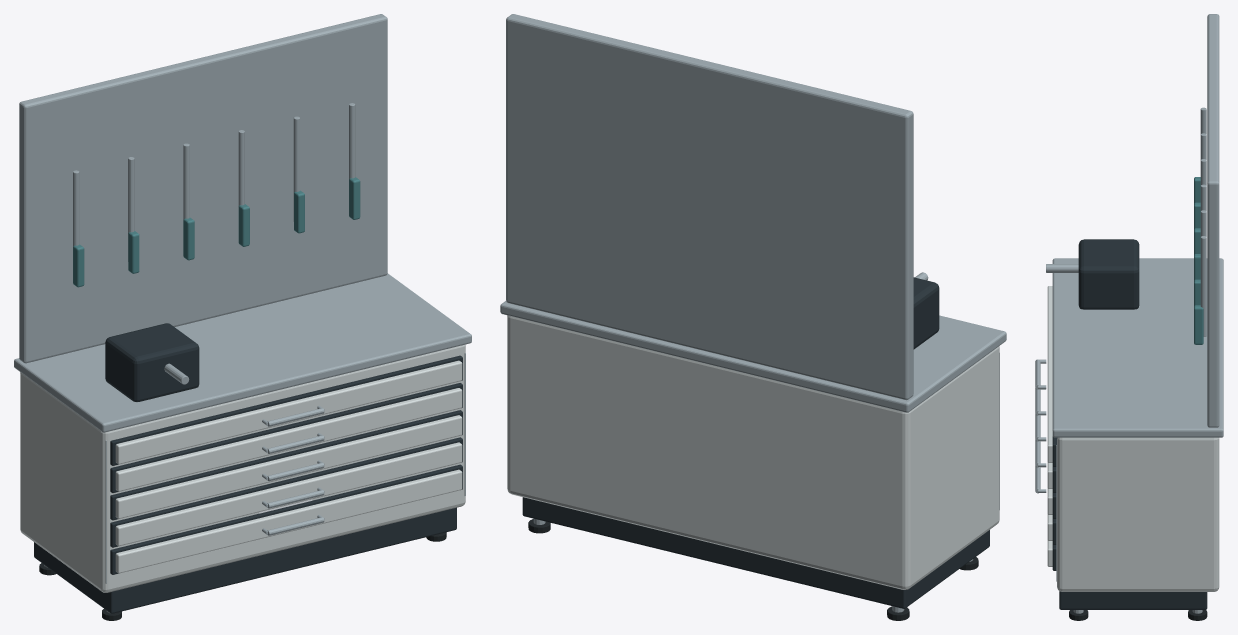
Rendered from SF_MaintenanceBench.fbx.
3 renders of one model, left to right at view 1: azimuth 30°, elevation 25°; view 2: azimuth 150°, elevation 25°; view 3: azimuth 270°, elevation 25°, orthographic. The views are drawn at different scales.
Parts seen in each view (by area): view 1: SF_MaintenanceBench; view 2: SF_MaintenanceBench; view 3: SF_MaintenanceBench.
Part boxes in pixels (left/top/right/bottom): SF_MaintenanceBench: left=14, top=14, right=471, bottom=620; SF_MaintenanceBench: left=500, top=14, right=1006, bottom=620; SF_MaintenanceBench: left=1035, top=14, right=1223, bottom=620.
Size of the model in its own units: 168 by 202 by 77.65.
